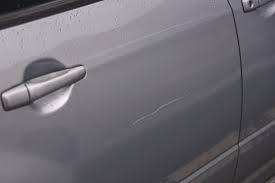scratch: (129, 88, 189, 132)
